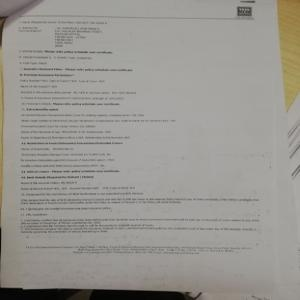image: (234, 5, 253, 18)
text: (16, 52, 263, 238), (16, 14, 255, 50)
